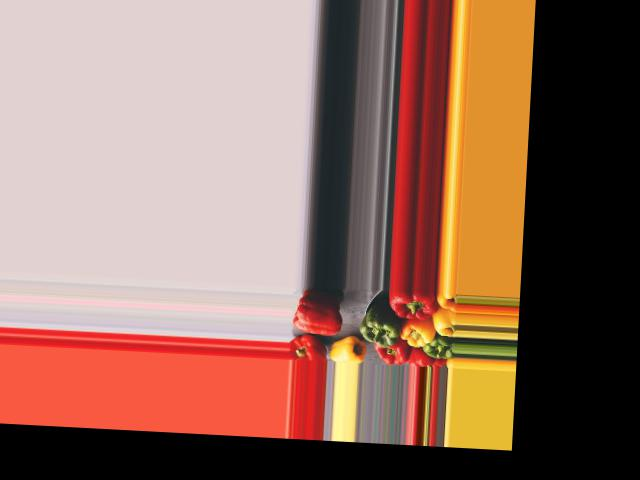bell_pepper: (287, 334, 328, 358)
